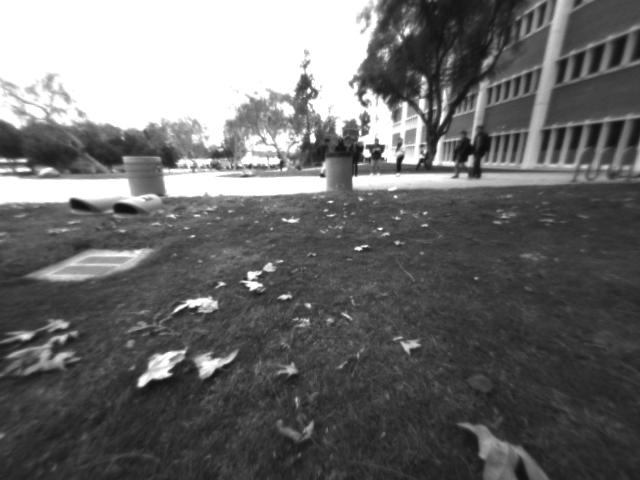trashcan: (127, 156, 167, 202), (326, 154, 354, 197)
